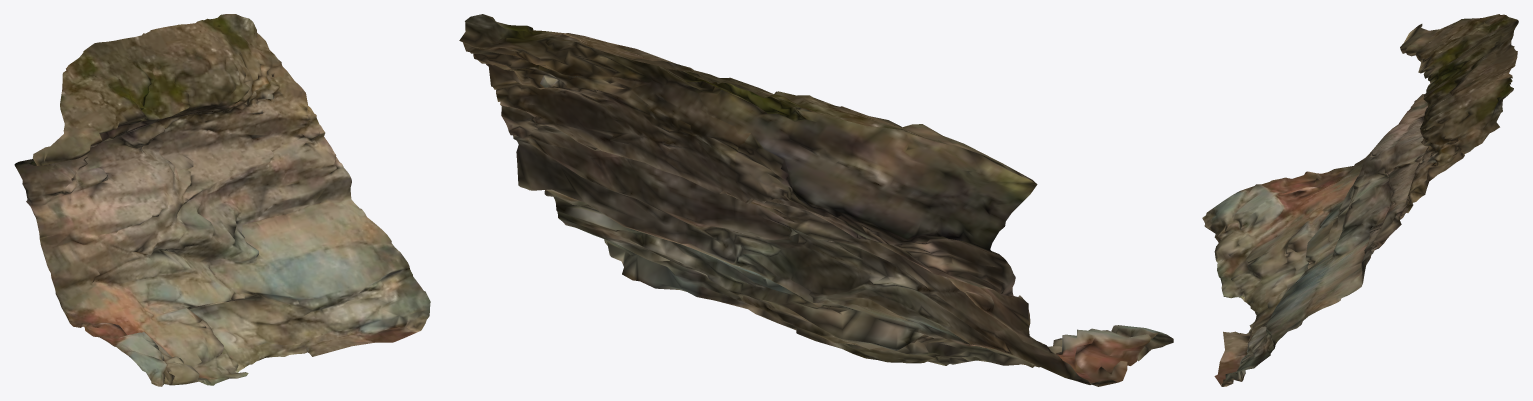
File: ph-rock-face-01.lod1.glb
The picture shows the model from 3 angles, left to right: view 1: azimuth 30°, elevation 25°; view 2: azimuth 150°, elevation 25°; view 3: azimuth 270°, elevation 25°; orthographic projection. The views are drawn at different scales.
Parts seen in each view (by area): view 1: rock_face_01; view 2: rock_face_01; view 3: rock_face_01.
Boxes of the visible parts, <box> form: rock_face_01: <box>14,14,430,386</box>; rock_face_01: <box>459,14,1173,386</box>; rock_face_01: <box>1202,14,1518,386</box>.
Bounding box in the file's own units: 9.03 × 6.5 × 6.97.
1 material, 1 textured.
